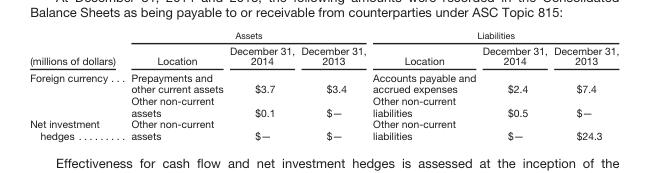table: (29, 29, 618, 141)
table column: (368, 29, 478, 141), (122, 29, 225, 141), (29, 29, 122, 141), (225, 29, 297, 141), (478, 29, 550, 141), (297, 29, 368, 141), (550, 29, 618, 141)
table column header: (29, 29, 618, 68)
table row: (29, 42, 618, 68), (29, 68, 618, 94), (29, 117, 618, 141), (29, 94, 618, 117), (29, 29, 618, 42)
table spanning cell: (29, 68, 122, 117), (29, 29, 122, 68), (368, 29, 618, 42), (122, 29, 368, 42)
